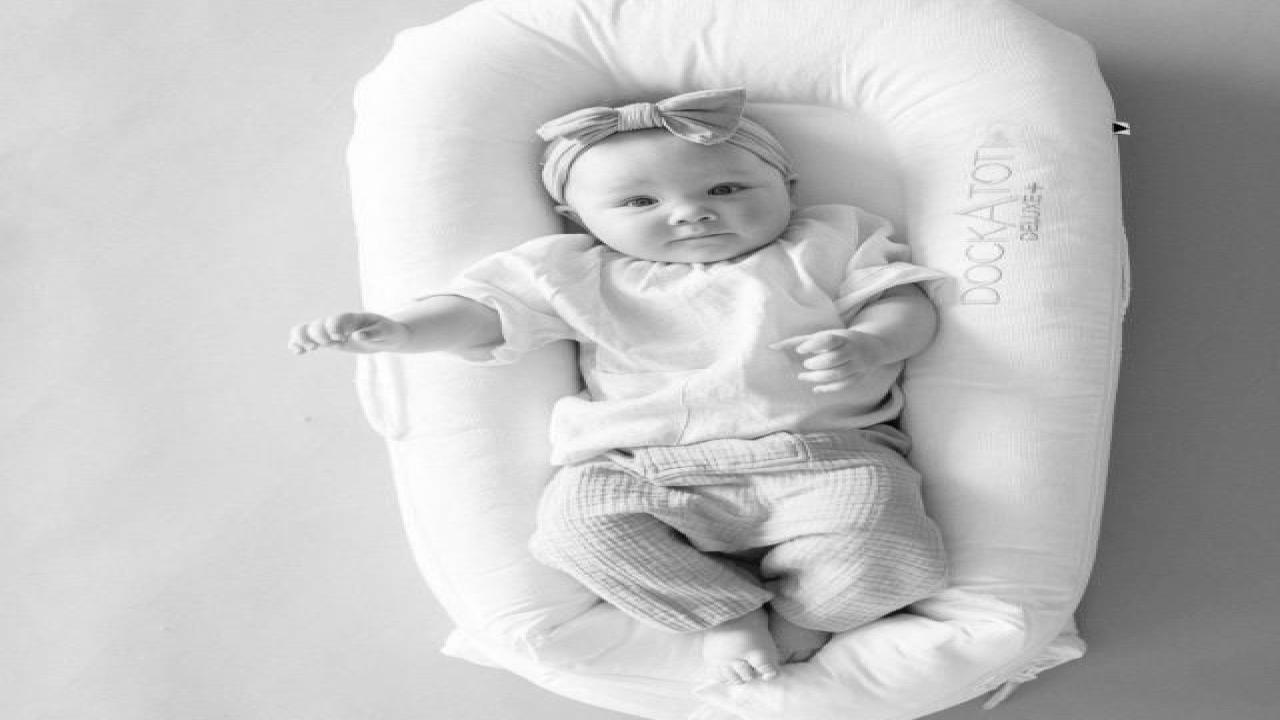hand: (774, 333, 870, 394), (292, 312, 406, 356)
